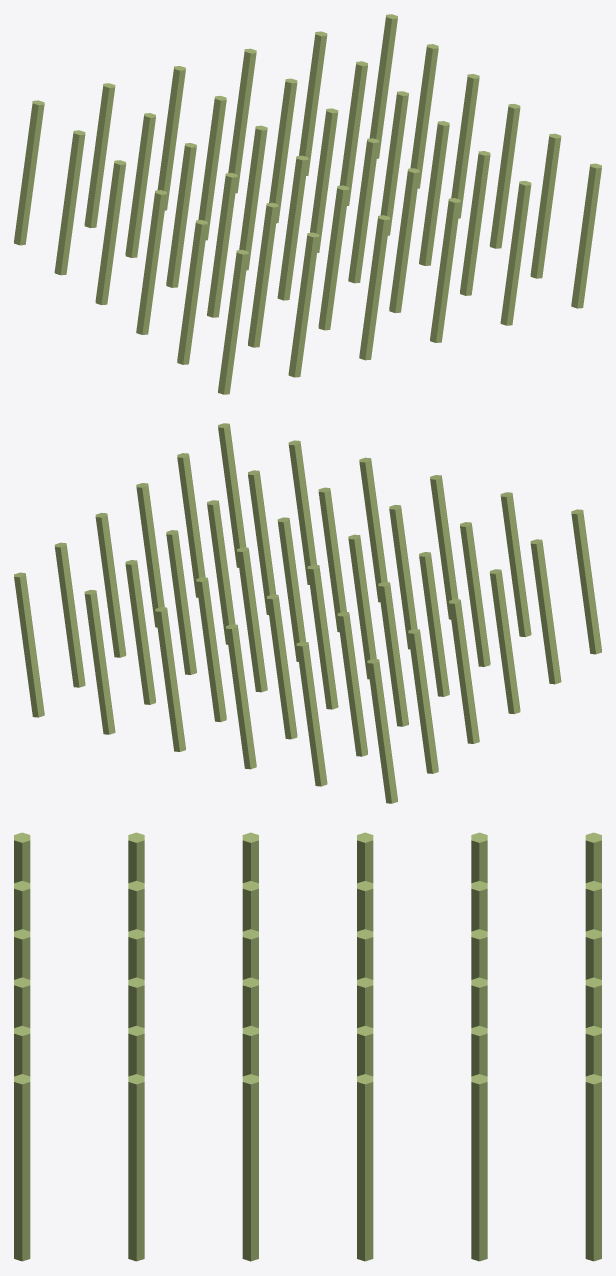
File: rice_patch.glb
3 views of the same model, one above another, from view 1: azimuth 30°, elevation 25°; view 2: azimuth 150°, elevation 25°; view 3: azimuth 270°, elevation 25° (orthographic). The views are drawn at different scales.
Parts seen in each view (by area): view 1: part_6, part_14, part_4, part_5, part_11, part_13, part_20, part_24, part_30, part_31, part_3, part_7 (+24 smaller); view 2: part_11, part_15, part_0, part_1, part_6, part_16, part_21, part_29, part_34, part_35, part_2, part_9 (+24 smaller); view 3: part_31, part_34, part_32, part_33, part_30, part_35, part_1, part_4, part_6, part_7, part_10, part_11 (+24 smaller).
Boxes of the visible parts, x1,y1,x2,y2 form: part_6: (288,232,319,377); part_14: (277,155,308,300); part_4: (54,130,85,275); part_5: (14,100,44,245); part_11: (84,83,115,228); part_13: (318,185,348,330); part_20: (348,138,378,283); part_24: (500,180,531,325); part_30: (571,163,601,308); part_31: (530,133,561,278); part_3: (95,160,126,305); part_7: (248,202,278,347); part_11: (296,641,327,786); part_15: (307,564,338,709); part_0: (571,509,601,654); part_1: (530,539,561,684); part_6: (500,492,531,637); part_16: (267,594,297,739); part_21: (237,547,267,692); part_29: (84,589,115,734); part_34: (54,542,85,687); part_35: (14,572,44,717); part_2: (489,569,520,714); part_9: (378,581,408,726); part_31: (128,1074,144,1261); part_34: (471,1074,487,1261); part_32: (242,1074,258,1261); part_33: (357,1074,373,1261); part_30: (14,1074,30,1261); part_35: (585,1074,601,1261); part_1: (128,832,144,883); part_4: (471,832,487,883); part_6: (14,881,30,931); part_7: (128,881,144,931); part_10: (471,881,487,931); part_11: (585,881,601,931).
Bounding box in the file's own units: 1.63 × 0.5572 × 1.54.
